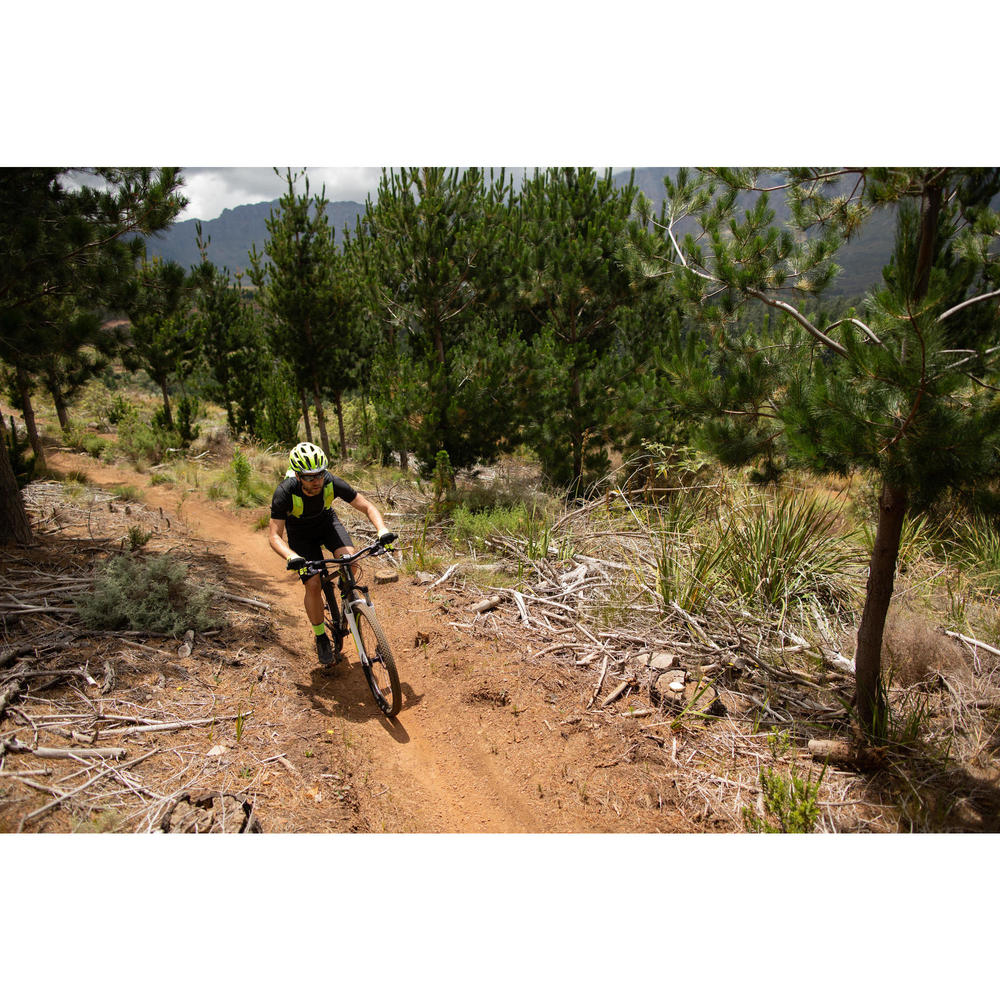MountainBike: (255, 533, 420, 721)
